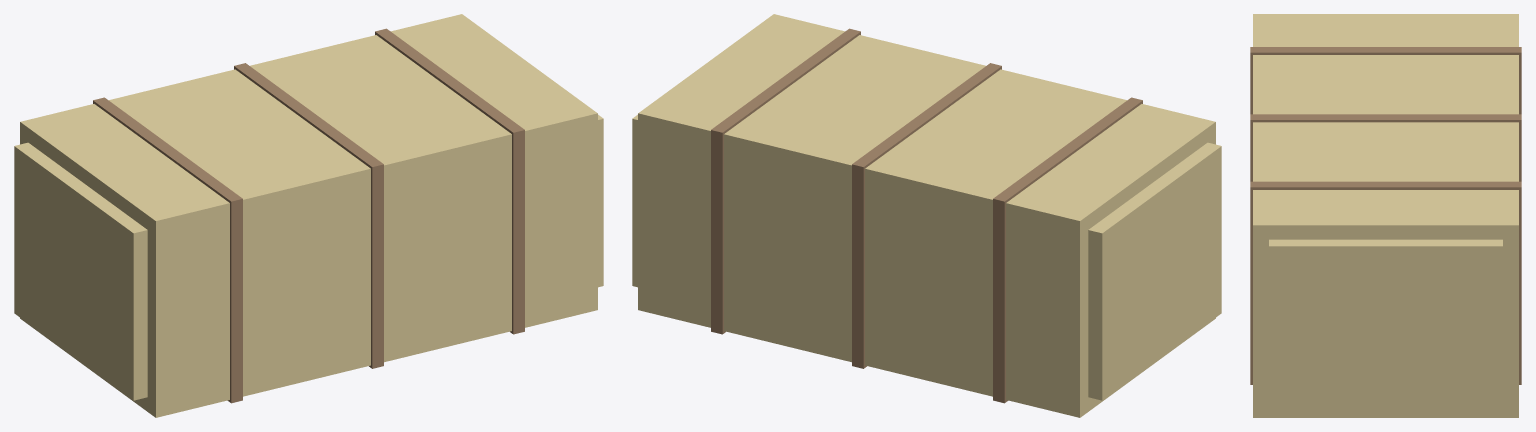
Rendered from prop-hay-bale-sp1.fbx.
3 views of the same model, side by side, from view 1: azimuth 30°, elevation 25°; view 2: azimuth 150°, elevation 25°; view 3: azimuth 270°, elevation 25° (orthographic). The views are drawn at different scales.
Parts seen in each view (by area): view 1: prop-hay-bale-sp1; view 2: prop-hay-bale-sp1; view 3: prop-hay-bale-sp1.
Boxes of the visible parts, bbox=[...] form: prop-hay-bale-sp1: bbox=[14, 14, 603, 417]; prop-hay-bale-sp1: bbox=[632, 14, 1221, 417]; prop-hay-bale-sp1: bbox=[1250, 14, 1521, 417].
Bounding box in the file's own units: 1 × 0.41 × 0.51.
